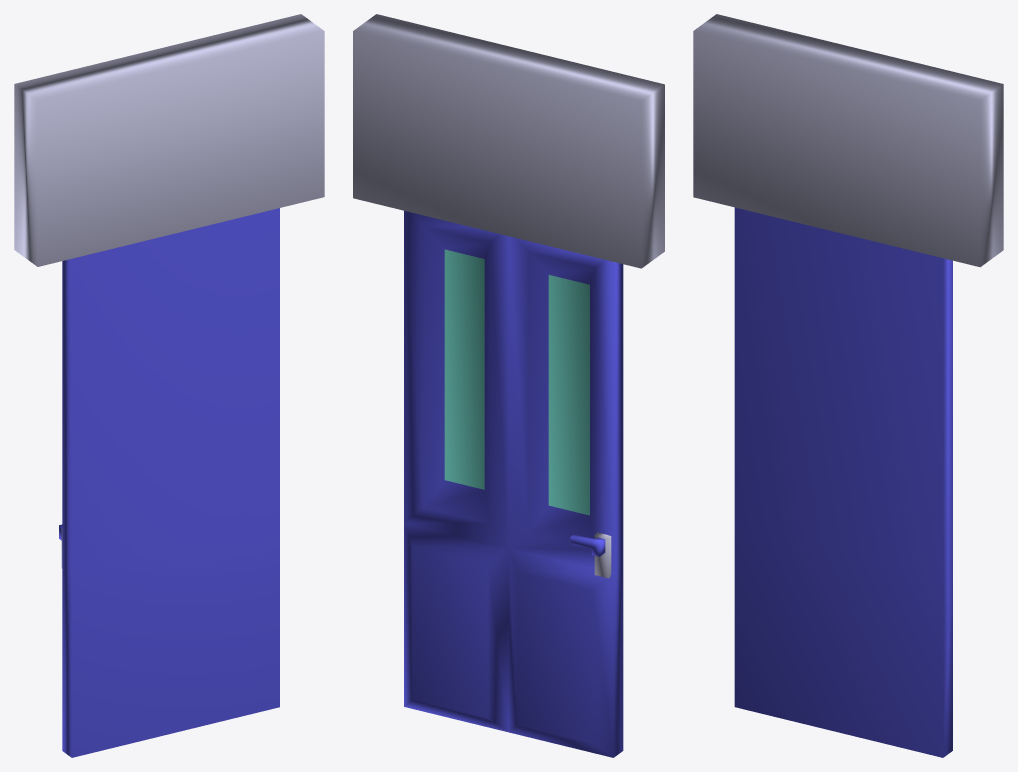
Rendered from Building_A_1.fbx.
3 views of the same model, side by side, from view 1: azimuth 30°, elevation 25°; view 2: azimuth 150°, elevation 25°; view 3: azimuth 330°, elevation 25° (orthographic).
Parts seen in each view (by area): view 1: Building_A_1; view 2: Building_A_1; view 3: Building_A_1.
Boxes of the visible parts, x1=… form: Building_A_1: x1=14, y1=14, x2=324, y2=757; Building_A_1: x1=353, y1=14, x2=664, y2=757; Building_A_1: x1=693, y1=14, x2=1003, y2=757.
Bounding box in the file's own units: 120 × 267 × 16.87.
